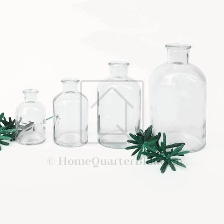bottle: (147, 36, 215, 157), (93, 51, 142, 151), (51, 73, 90, 148), (12, 81, 48, 146)
